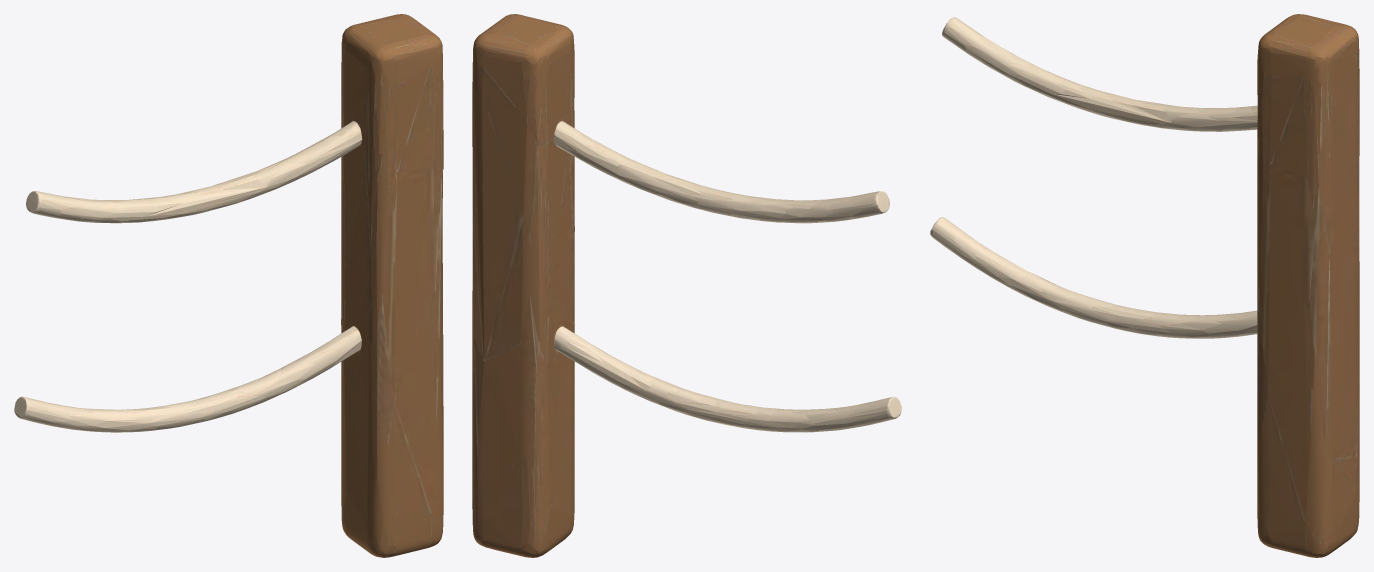
File: ropeFence.glb
3 renders of one model, left to right at view 1: azimuth 30°, elevation 25°; view 2: azimuth 150°, elevation 25°; view 3: azimuth 330°, elevation 25°, orthographic.
Parts seen in each view (by area): view 1: Mesh_0; view 2: Mesh_0; view 3: Mesh_0.
Part boxes in pixels (x1=…): Mesh_0: x1=14, y1=14, x2=443, y2=557; Mesh_0: x1=472, y1=14, x2=901, y2=557; Mesh_0: x1=930, y1=14, x2=1359, y2=557.
Bounding box in the file's own units: 1.01 × 1.2 × 0.18.
Materials: 1 (1 with a texture image).
